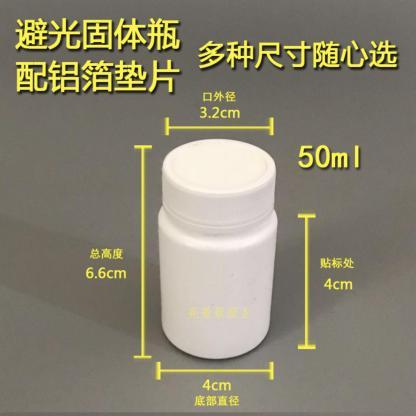jar: (157, 138, 279, 359)
